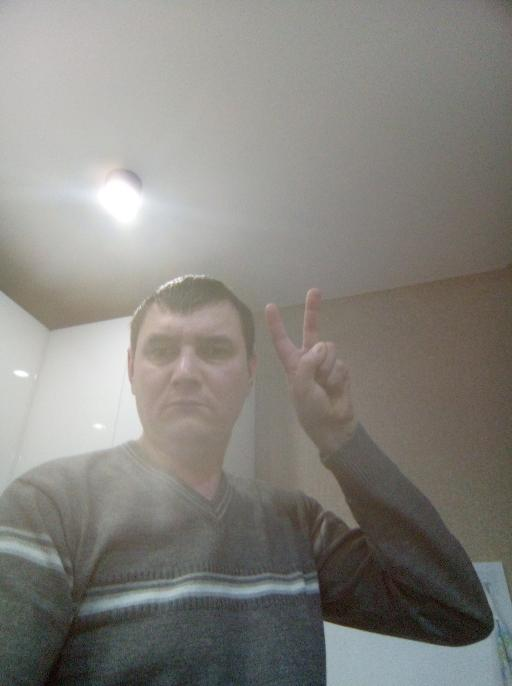peace: (259, 285, 360, 437)
